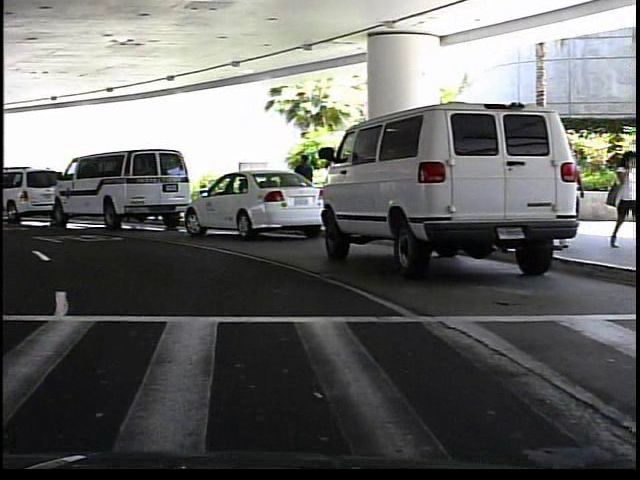person: (599, 146, 640, 248), (289, 149, 319, 221)
